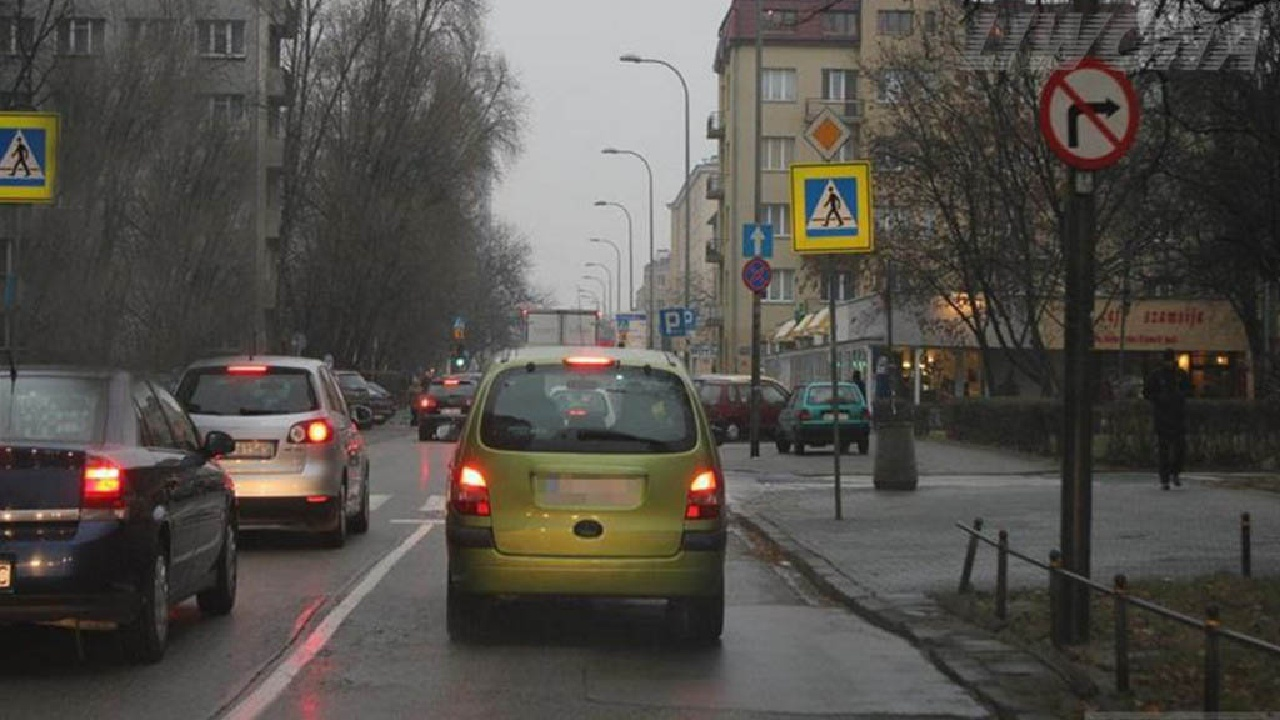B22: (1040, 59, 1141, 169)
D1: (803, 107, 853, 160)
D18: (660, 308, 685, 336)
D3: (744, 224, 772, 258)
D6: (803, 177, 860, 237), (1, 128, 44, 185)
